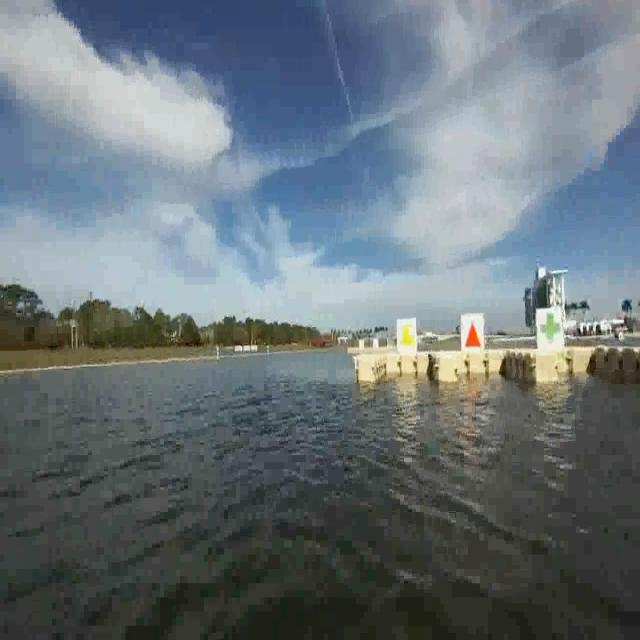blue-cross: (537, 308, 561, 347)
red-dot: (461, 314, 482, 350)
yellow-duck: (396, 318, 416, 354)
